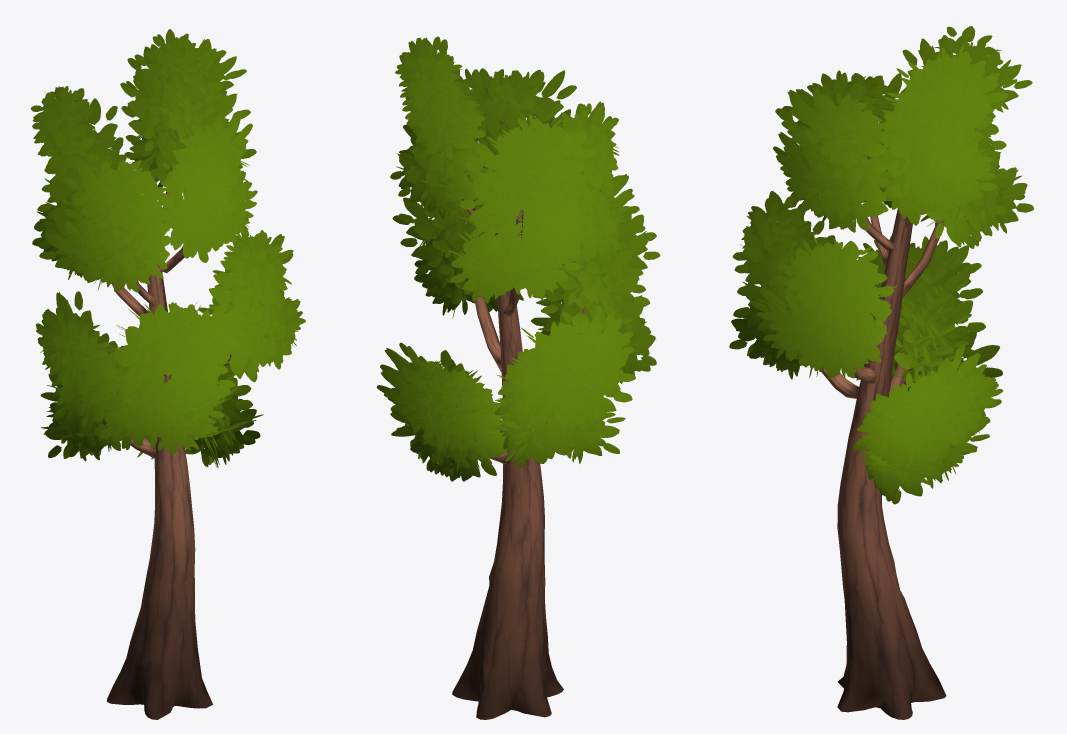
Rendered from tree3.glb.
3 renders of one model, left to right at view 1: azimuth 30°, elevation 25°; view 2: azimuth 150°, elevation 25°; view 3: azimuth 270°, elevation 25°, orthographic. The views are drawn at different scales.
Parts seen in each view (by area): view 1: CommonTree_3; view 2: CommonTree_3; view 3: CommonTree_3.
Boxes of the visible parts, bbox=[...] form: CommonTree_3: bbox=[30, 29, 305, 719]; CommonTree_3: bbox=[376, 36, 660, 719]; CommonTree_3: bbox=[729, 26, 1033, 719].
Size of the model in its own units: 4.06 by 9.43 by 4.24.
Materials: 2 (2 with a texture image).
